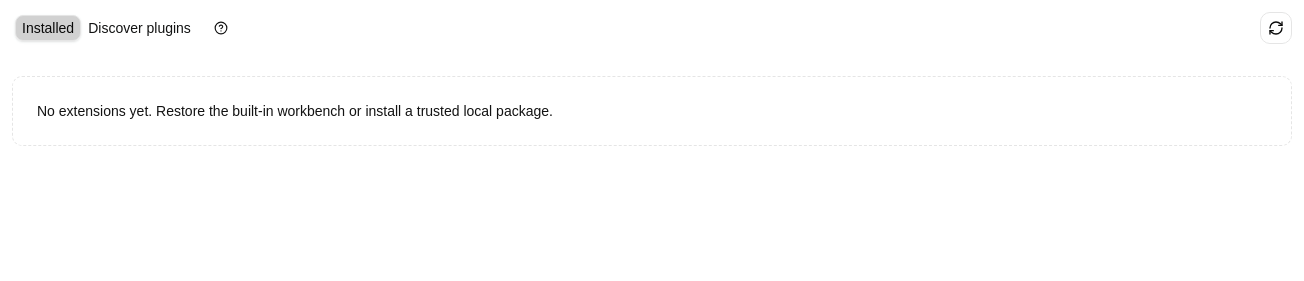
shows the local installation tools only in the discovery tab
Check: the element "Plugin market" is not shown
Check: the button "Install from file" is not shown
Click the tab "Discover plugins" at (140, 28), box [81,15,198,41]
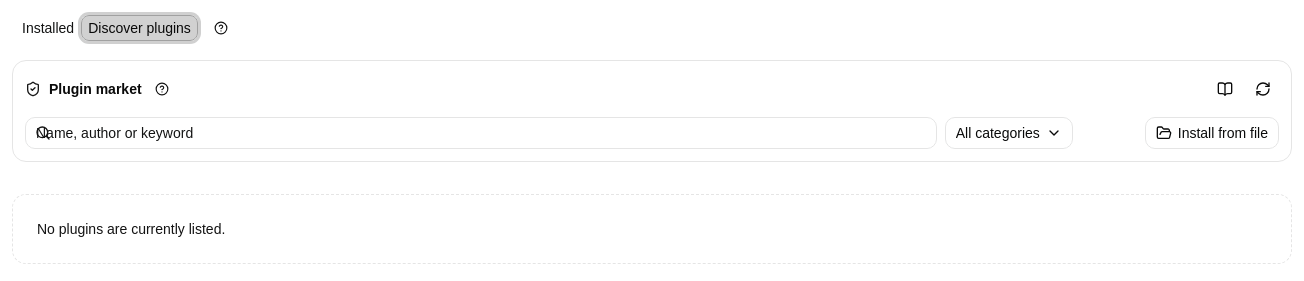
Check: the element "Plugin market" is shown
Check: the button "Install from file" is enabled, box [1145,117,1279,149]
Check: the link named "Developer docs" is shown, box [1217,81,1233,97]
Click the tab "Installed" at (48, 28), box [15,15,81,41]
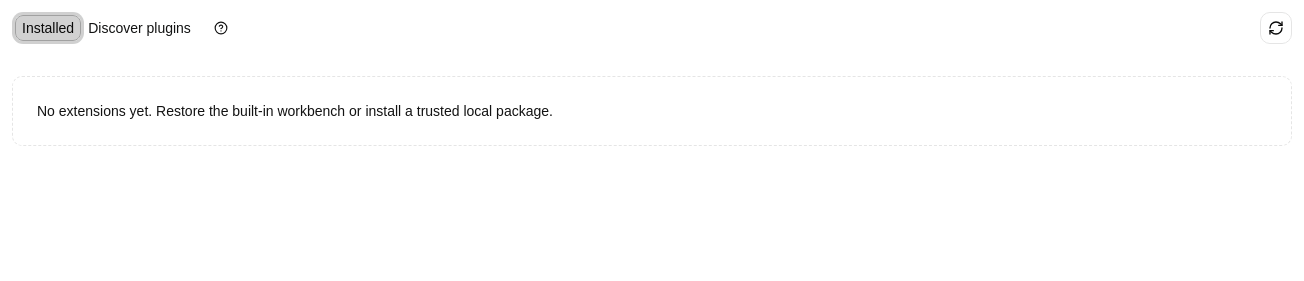
Check: the heading "Plugin market" is gone
